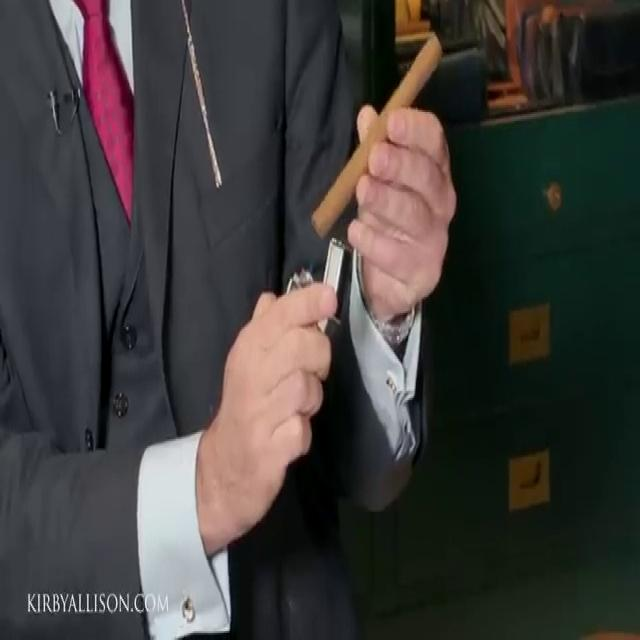Smooking: (312, 17, 467, 251)
